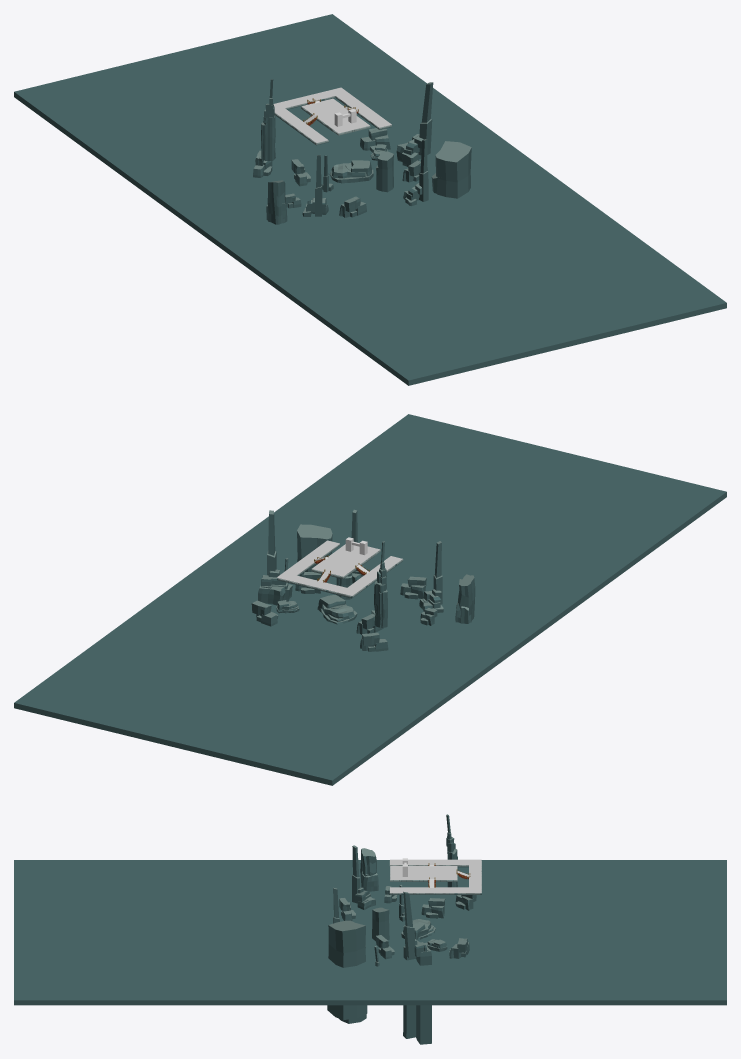
Rendered from map_v9.fbx.
3 views of the same model, one above another, from view 1: azimuth 30°, elevation 25°; view 2: azimuth 150°, elevation 25°; view 3: azimuth 270°, elevation 25° (orthographic). The views are drawn at different scales.
Visible parts, largest first — view 1: Cube.009, Cube.005, hit_box_2, hit_box_3, Cube.007, Cube.016, Cylinder.002, Cube.021, Cube.018; view 2: Cube.009, hit_box_2, hit_box_3, Cube.005, Cube.016, Cube.007, Cube, Cylinder.002; view 3: Cube.009, Cube.005, hit_box_2, Cube.006, hit_box_3, Cube.007, Cube, Cube.021, Cylinder.002, Cube.013, Cube.016.
Boxes of the visible parts, x1,y1,x2,y2 form: Cube.009: [14, 14, 726, 385]; Cube.005: [431, 141, 471, 198]; hit_box_2: [273, 87, 391, 143]; hit_box_3: [302, 98, 369, 133]; Cube.007: [403, 82, 433, 155]; Cube.016: [329, 160, 373, 183]; Cylinder.002: [267, 180, 285, 224]; Cube.021: [376, 151, 393, 192]; Cube.018: [407, 139, 428, 201]; Cube.009: [14, 414, 726, 785]; hit_box_2: [276, 540, 402, 595]; hit_box_3: [312, 544, 380, 576]; Cube.005: [297, 524, 332, 576]; Cube.016: [317, 595, 357, 624]; Cube.007: [261, 510, 288, 589]; Cube: [423, 541, 442, 608]; Cylinder.002: [458, 574, 475, 622]; Cube.009: [14, 860, 726, 1005]; Cube.005: [327, 920, 367, 1023]; hit_box_2: [390, 859, 481, 893]; Cube.006: [403, 942, 431, 1044]; hit_box_3: [390, 866, 457, 879]; Cube.007: [403, 891, 426, 958]; Cube: [352, 845, 370, 903]; Cube.021: [372, 907, 389, 941]; Cylinder.002: [360, 848, 376, 887]; Cube.013: [421, 898, 445, 918]; Cube.016: [401, 919, 435, 940].
Bounding box in the file's own units: 12395 × 6988 × 26600.
